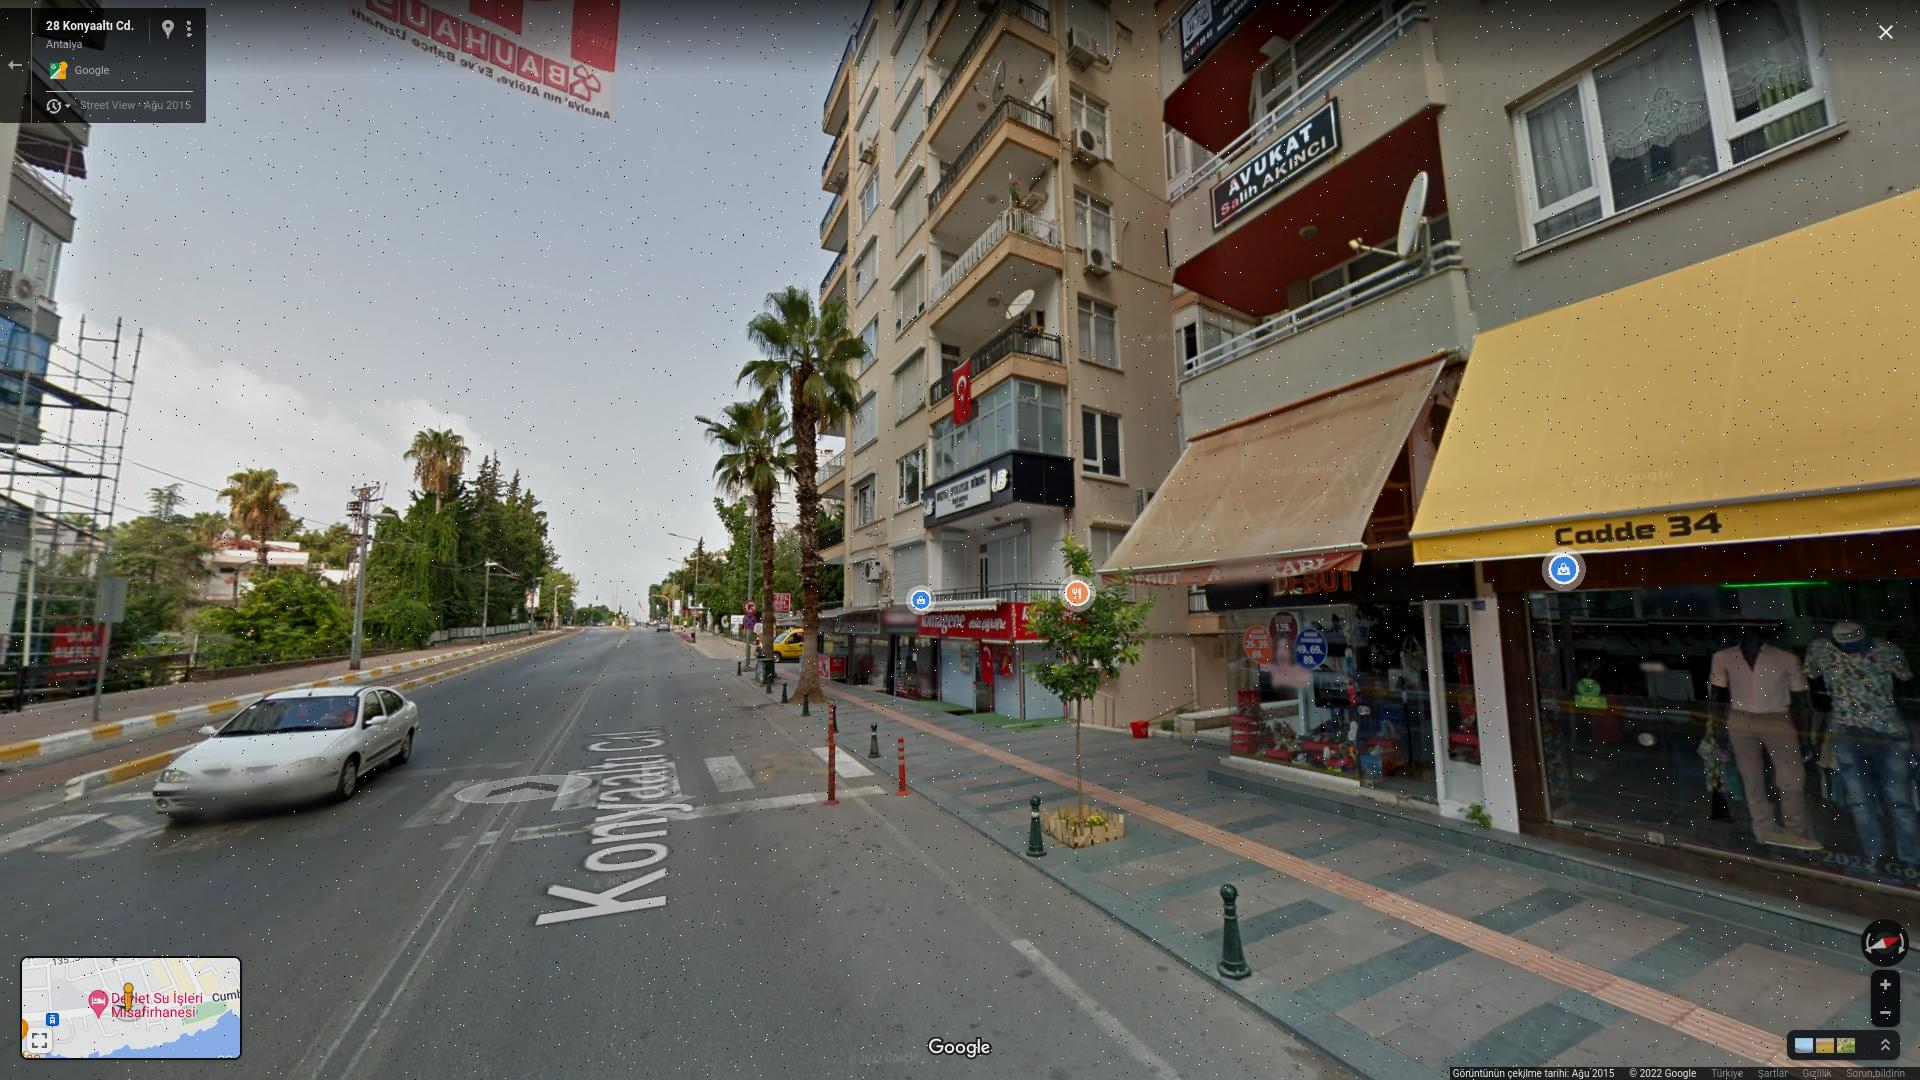rightturnsareforbidden: (744, 600, 758, 615)
